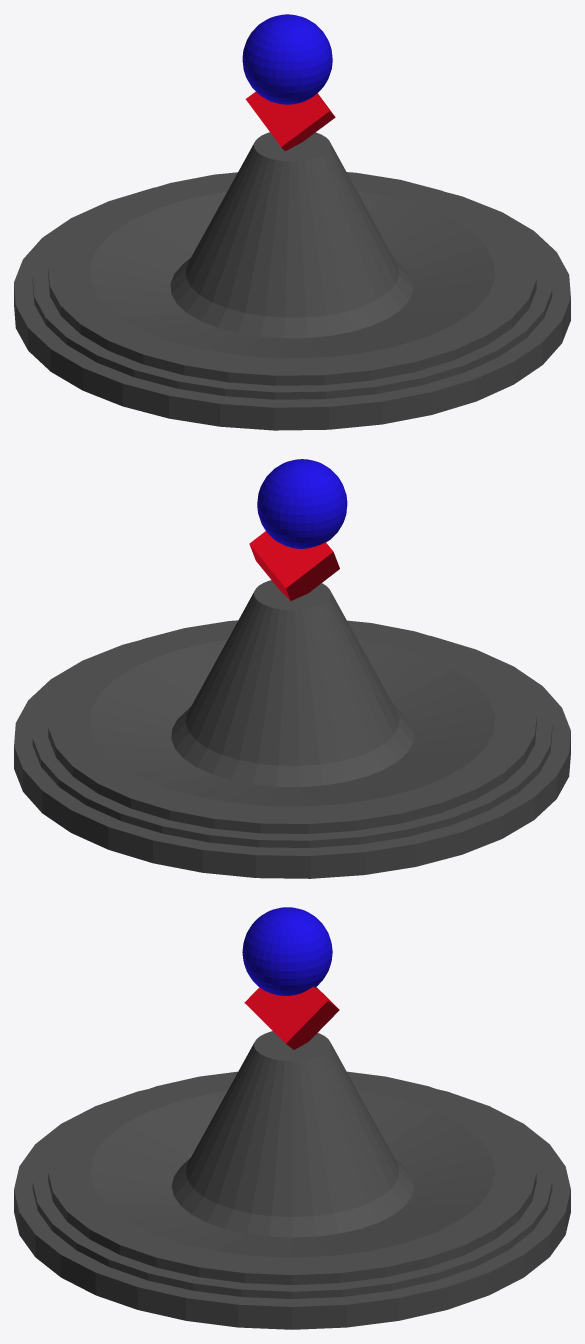
File: Statue.fbx
3 renders of one model, top to bottom at view 1: azimuth 30°, elevation 25°; view 2: azimuth 150°, elevation 25°; view 3: azimuth 270°, elevation 25°, orthographic.
Parts seen in each view (by area): view 1: Cylinder.005, Sphere.002, Cube.010; view 2: Cylinder.005, Sphere.002, Cube.010; view 3: Cylinder.005, Sphere.002, Cube.010.
Part boxes in pixels (x1,y1,x2,y2): Cylinder.005: (14,132,570,430); Sphere.002: (242,14,332,104); Cube.010: (245,91,335,151); Cylinder.005: (14,580,570,878); Sphere.002: (257,459,347,548); Cube.010: (249,531,339,600); Cylinder.005: (14,1031,570,1329); Sphere.002: (242,907,332,995); Cube.010: (244,986,339,1049).
Size of the model in its own units: 3939 by 2319 by 3939.
